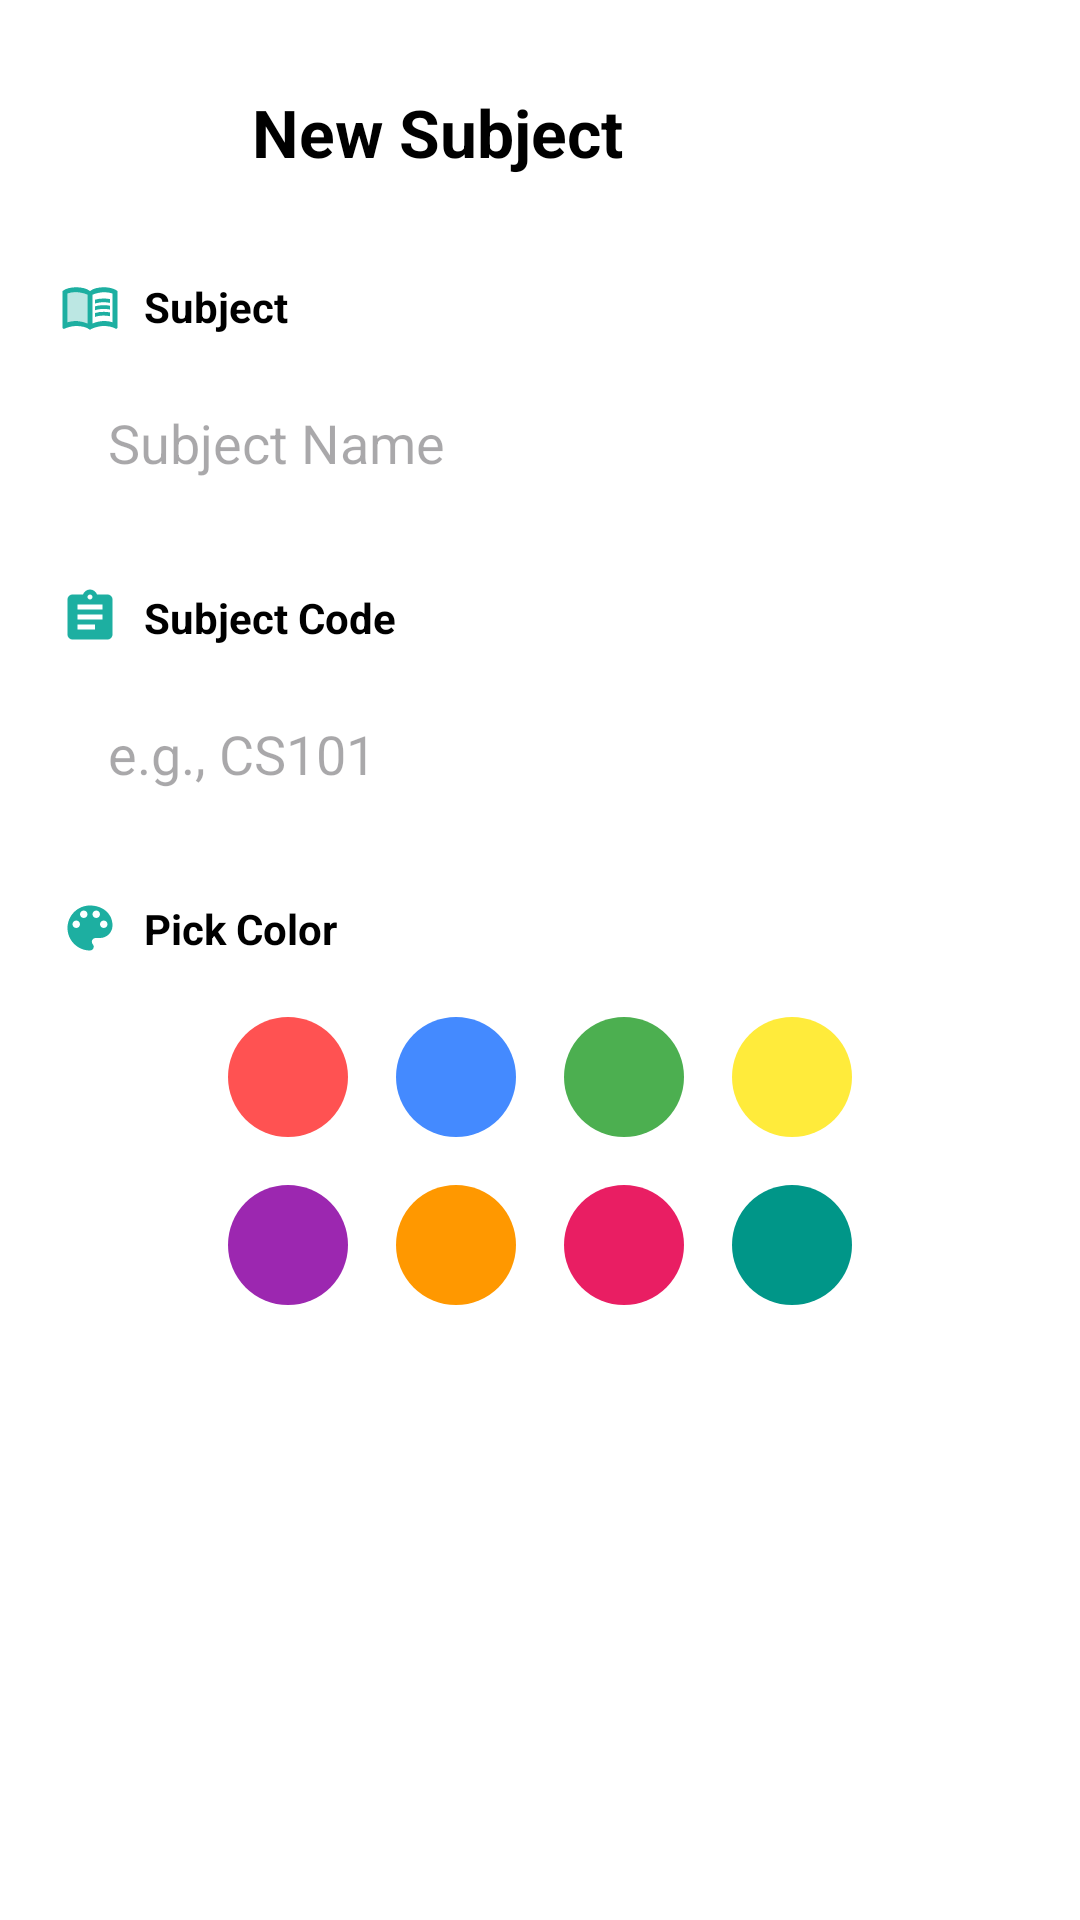

Named icons in this screenshot (1080px x 1920px) and their centers, point (x, y):
Assignment Title Icon: point (90, 614)
